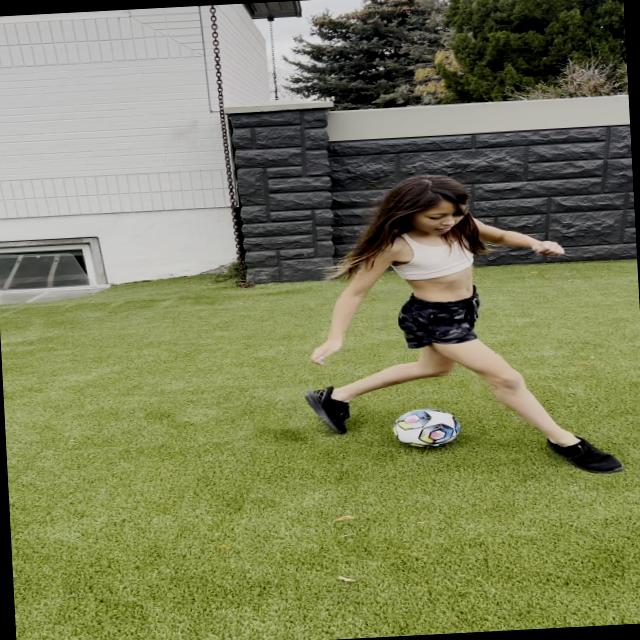Soccer Ball: (392, 407, 461, 450)
